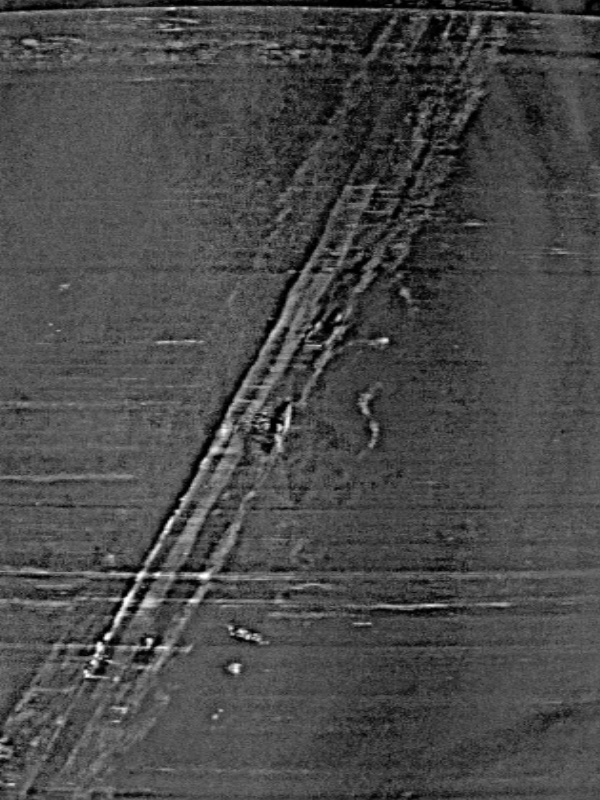splice_vulcanized: (6, 10, 500, 794)
